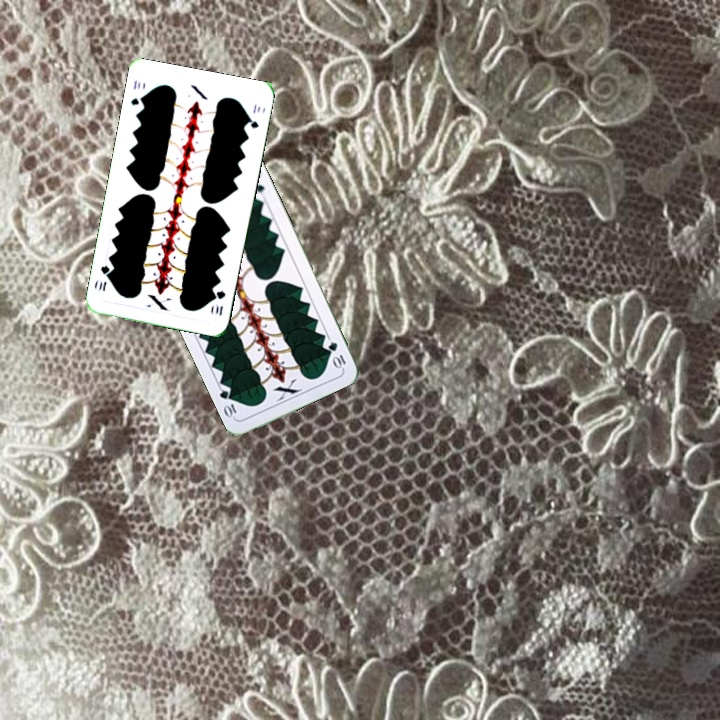G10: (324, 338, 348, 371), (127, 76, 147, 108), (212, 287, 228, 318)
